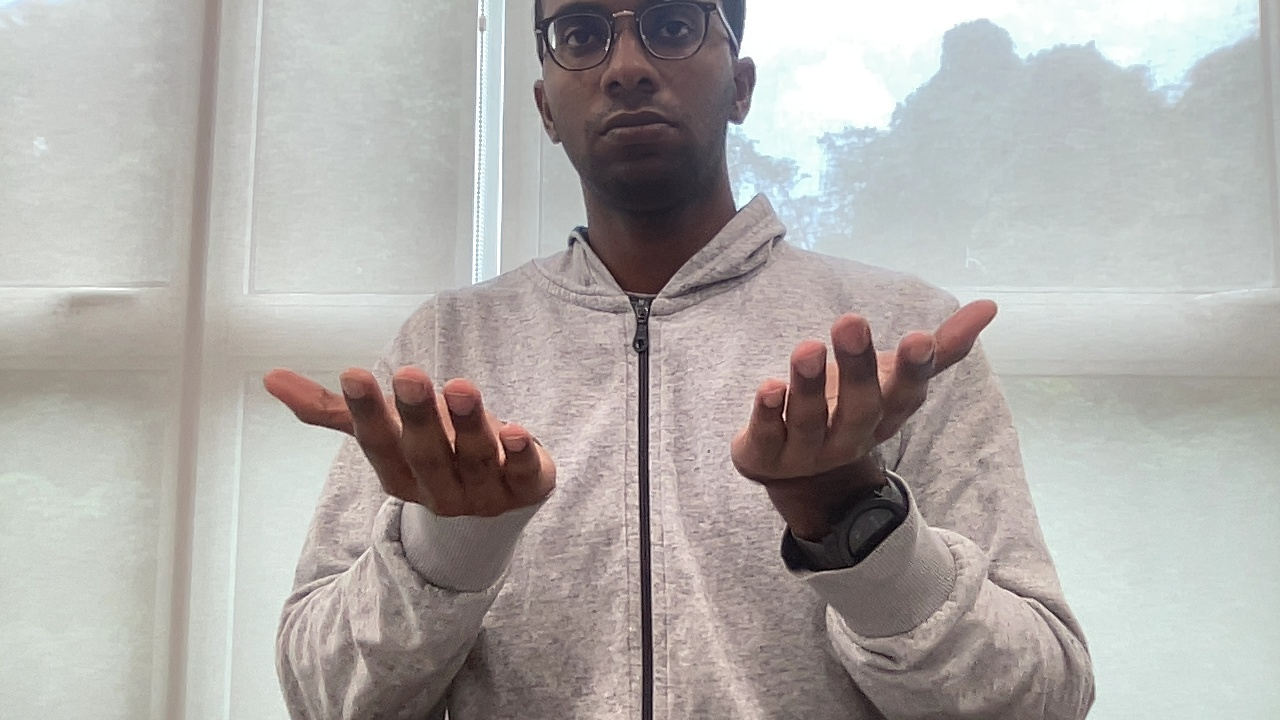give: (250, 295, 1006, 524)
